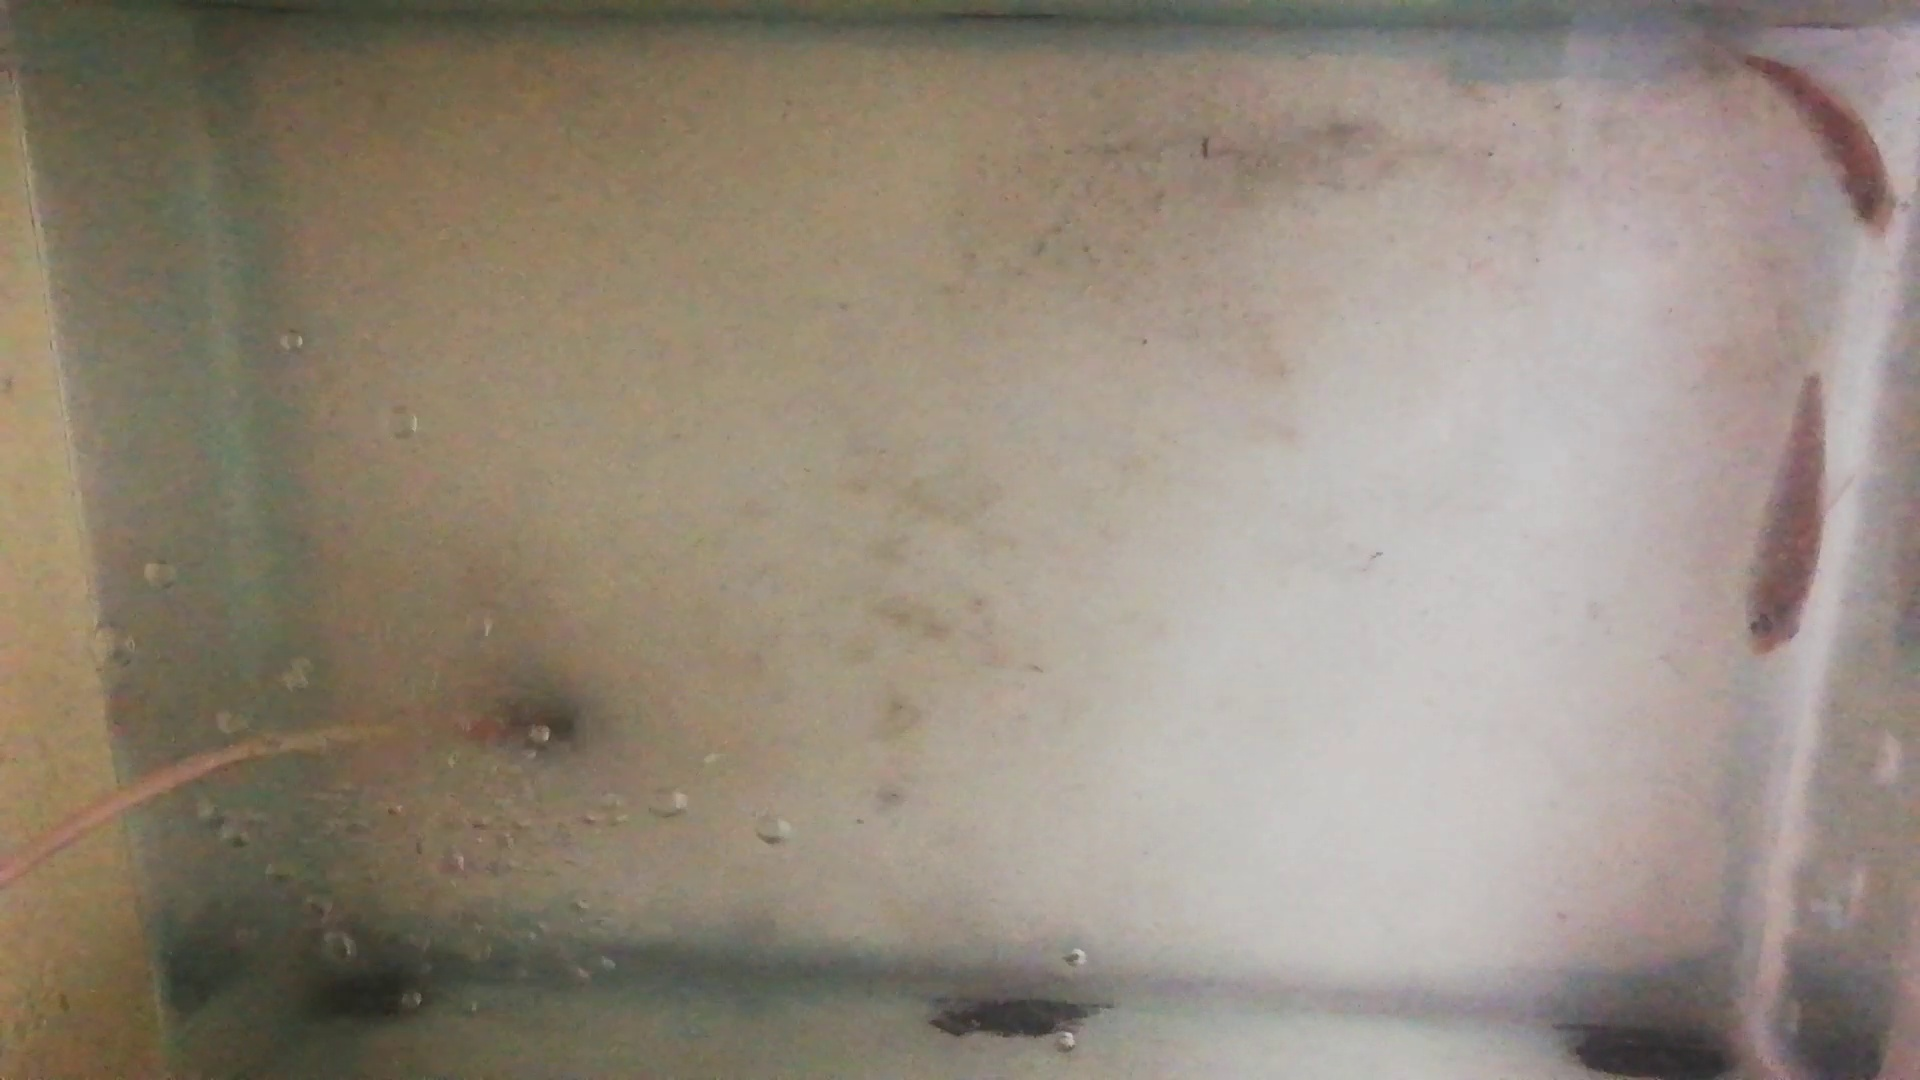fish: (1738, 51, 1898, 236), (1738, 378, 1830, 658)
